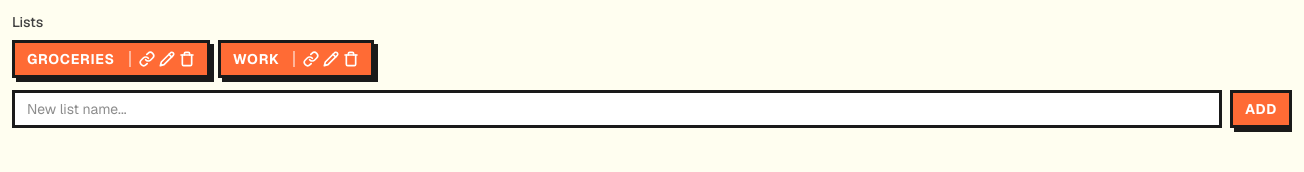
Scenario: ListSelector › alerts and keeps list when rename returns 0 rows (silent fail)
This screenshot has width=1304, height=172.
Expected: the text "Groceries" is shown, [27,49,115,69]
Click the button named "Rename Groceries" at {"x": 167, "y": 59}, box [159,51,175,67]
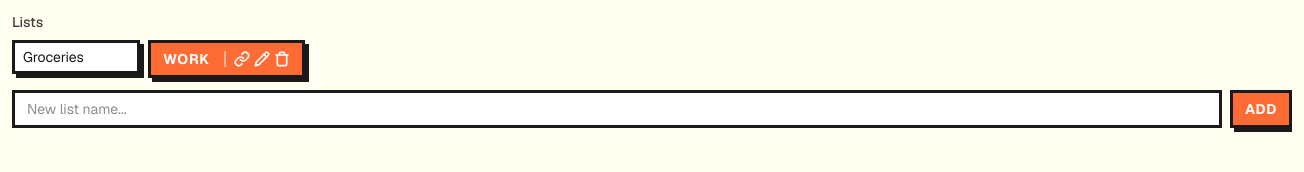
Replace the text in the field showing "Groceries" with "Food" at {"x": 76, "y": 57}, box [12,40,140,74]
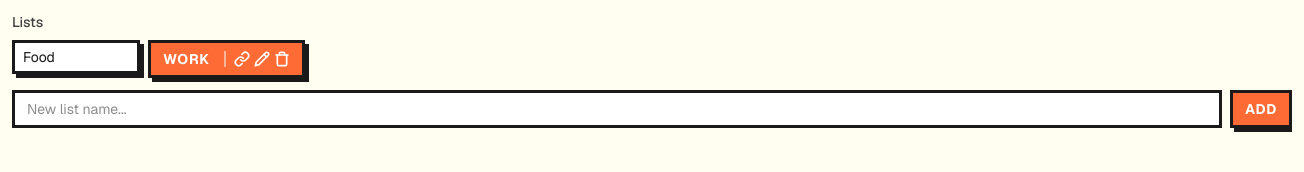
Press Enter
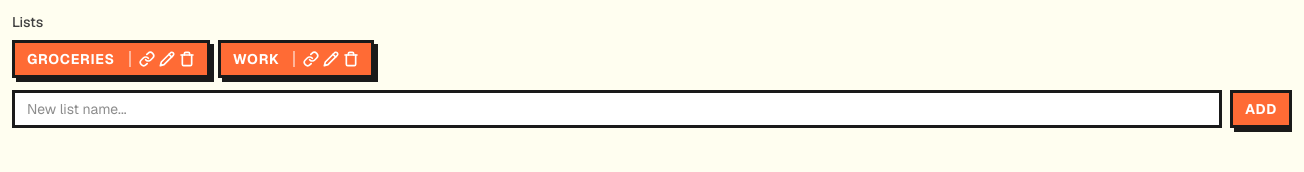
Expected: the text "Food" is not shown
Now the text "Groceries" is shown, box [27,49,115,69]
